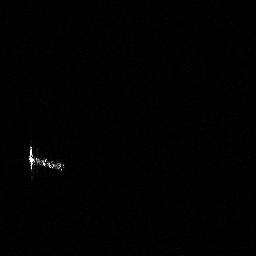ship: (24, 142, 67, 174)
